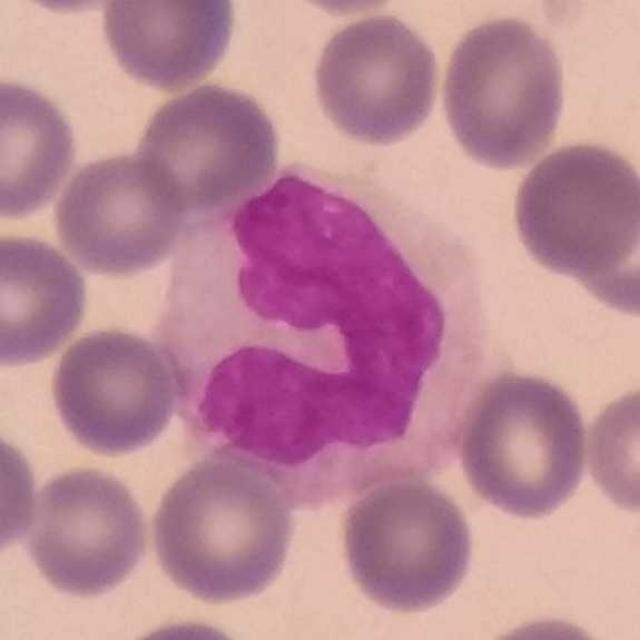mono: (162, 151, 503, 498)
